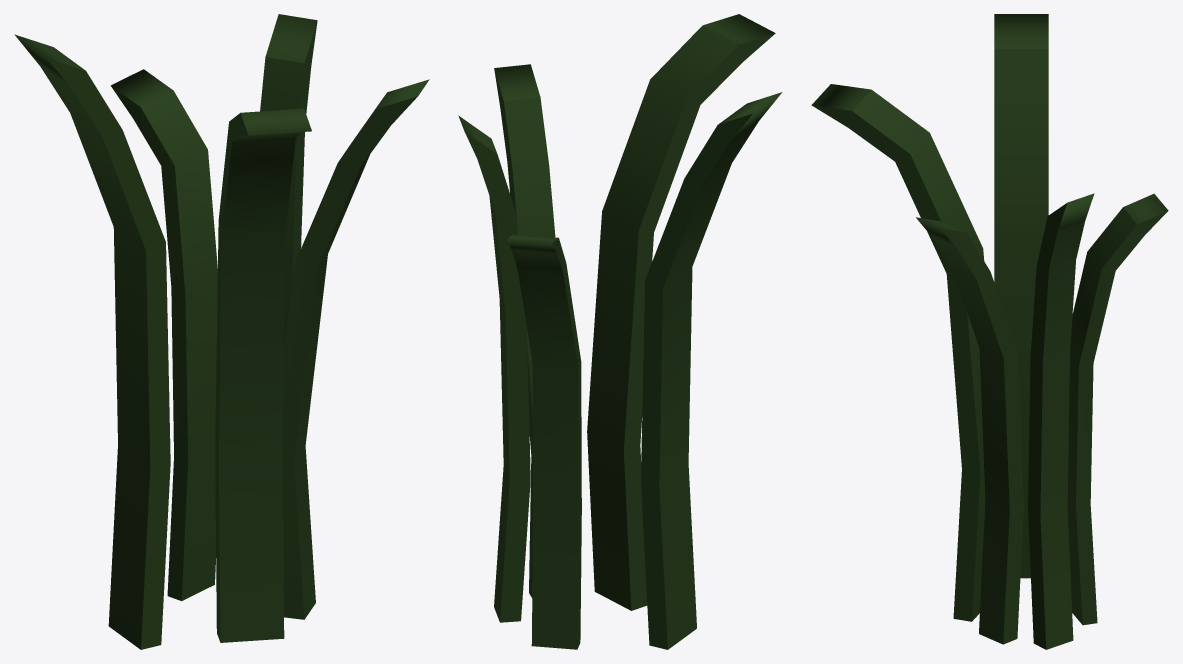
File: grass.fbx
The picture shows the model from 3 angles, left to right: view 1: azimuth 30°, elevation 25°; view 2: azimuth 150°, elevation 25°; view 3: azimuth 270°, elevation 25°; orthographic projection. The views are drawn at different scales.
Parts seen in each view (by area): view 1: gras_spriet4, gras_spriet, gras_spriet1, gras_spriet2, gras_spriet3; view 2: gras_spriet4, gras_spriet, gras_spriet1, gras_spriet3, gras_spriet2; view 3: gras_spriet, gras_spriet3, gras_spriet4, gras_spriet2, gras_spriet1.
Boxes of the visible parts, bbox=[...] form: gras_spriet4: bbox=[215, 108, 311, 642]; gras_spriet: bbox=[14, 34, 170, 649]; gras_spriet1: bbox=[110, 69, 217, 601]; gras_spriet2: bbox=[282, 79, 429, 619]; gras_spriet3: bbox=[260, 14, 317, 351]; gras_spriet4: bbox=[587, 14, 775, 610]; gras_spriet: bbox=[641, 92, 782, 649]; gras_spriet1: bbox=[507, 234, 581, 649]; gras_spriet3: bbox=[458, 115, 530, 622]; gras_spriet2: bbox=[494, 64, 555, 597]; gras_spriet: bbox=[994, 14, 1048, 578]; gras_spriet3: bbox=[1028, 193, 1094, 649]; gras_spriet4: bbox=[811, 84, 985, 621]; gras_spriet2: bbox=[916, 217, 1023, 644]; gras_spriet1: bbox=[1067, 193, 1168, 625].
Bounding box in the file's own units: 1.33 × 2.24 × 1.4.
1 material, 1 textured.
